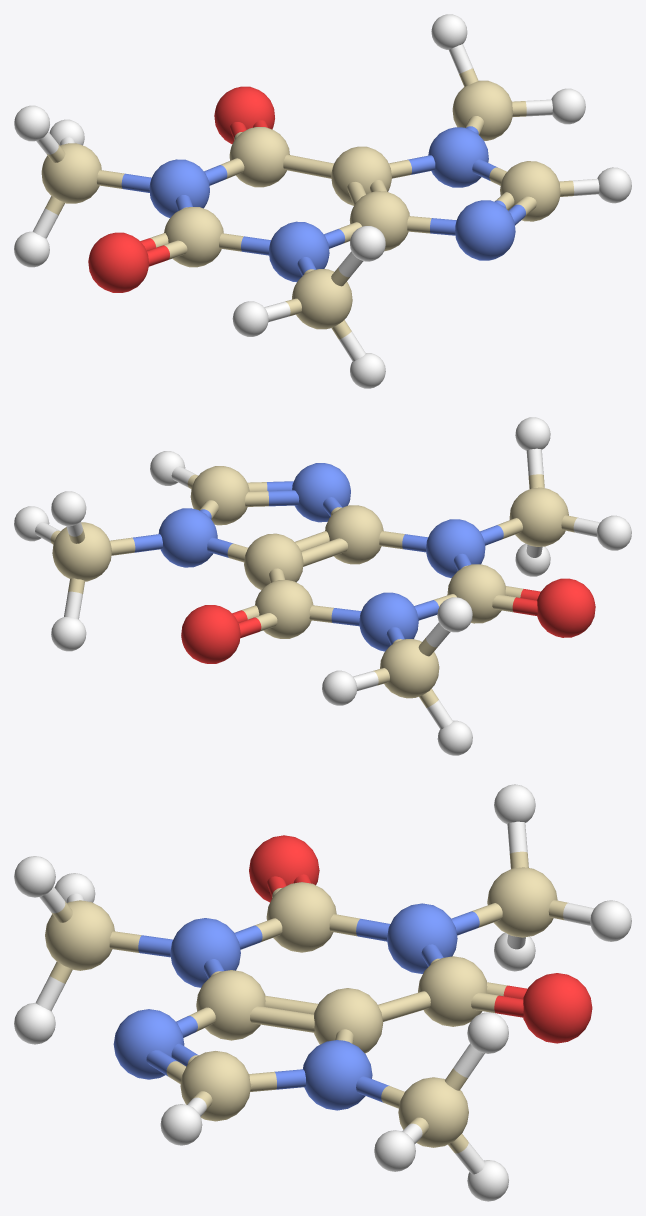
Rendered from Caffeine.glb.
The picture shows the model from 3 angles, top to bottom: view 1: azimuth 30°, elevation 25°; view 2: azimuth 150°, elevation 25°; view 3: azimuth 270°, elevation 25°; orthographic projection. The views are drawn at different scales.
Parts seen in each view (by area): view 1: atoms, sticks, hydrogen; view 2: atoms, sticks, hydrogen; view 3: atoms, sticks, hydrogen.
Boxes of the visible parts, x1,y1,x2,y2 form: atoms: [41, 80, 560, 329]; sticks: [33, 44, 599, 361]; hydrogen: [14, 14, 631, 388]; atoms: [52, 463, 595, 698]; sticks: [35, 448, 599, 729]; hydrogen: [14, 417, 631, 755]; atoms: [45, 835, 592, 1147]; sticks: [35, 821, 594, 1174]; hydrogen: [14, 784, 631, 1201].
Bounding box in the file's own units: 7.95 × 2.26 × 6.82.
